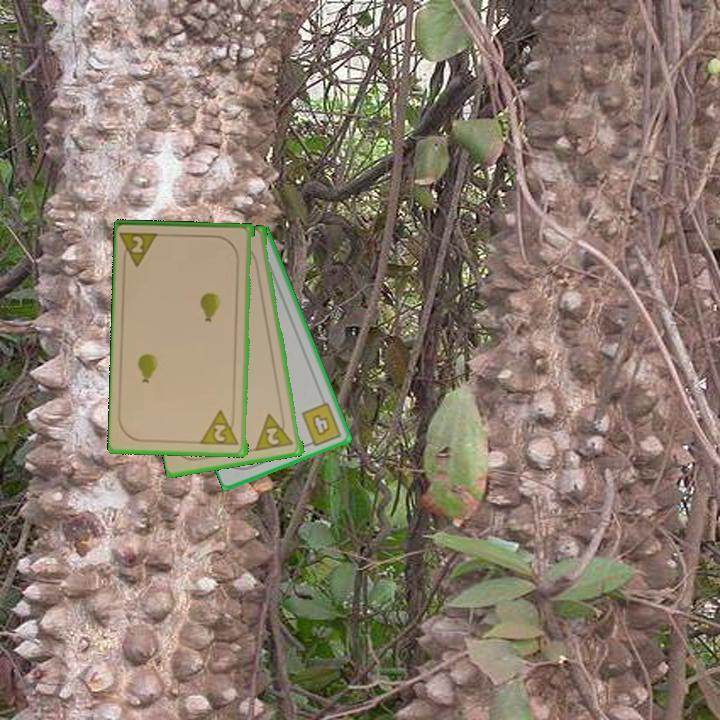2p: (253, 409, 297, 454), (199, 407, 242, 449), (119, 229, 163, 270)
4b: (298, 399, 345, 450)
